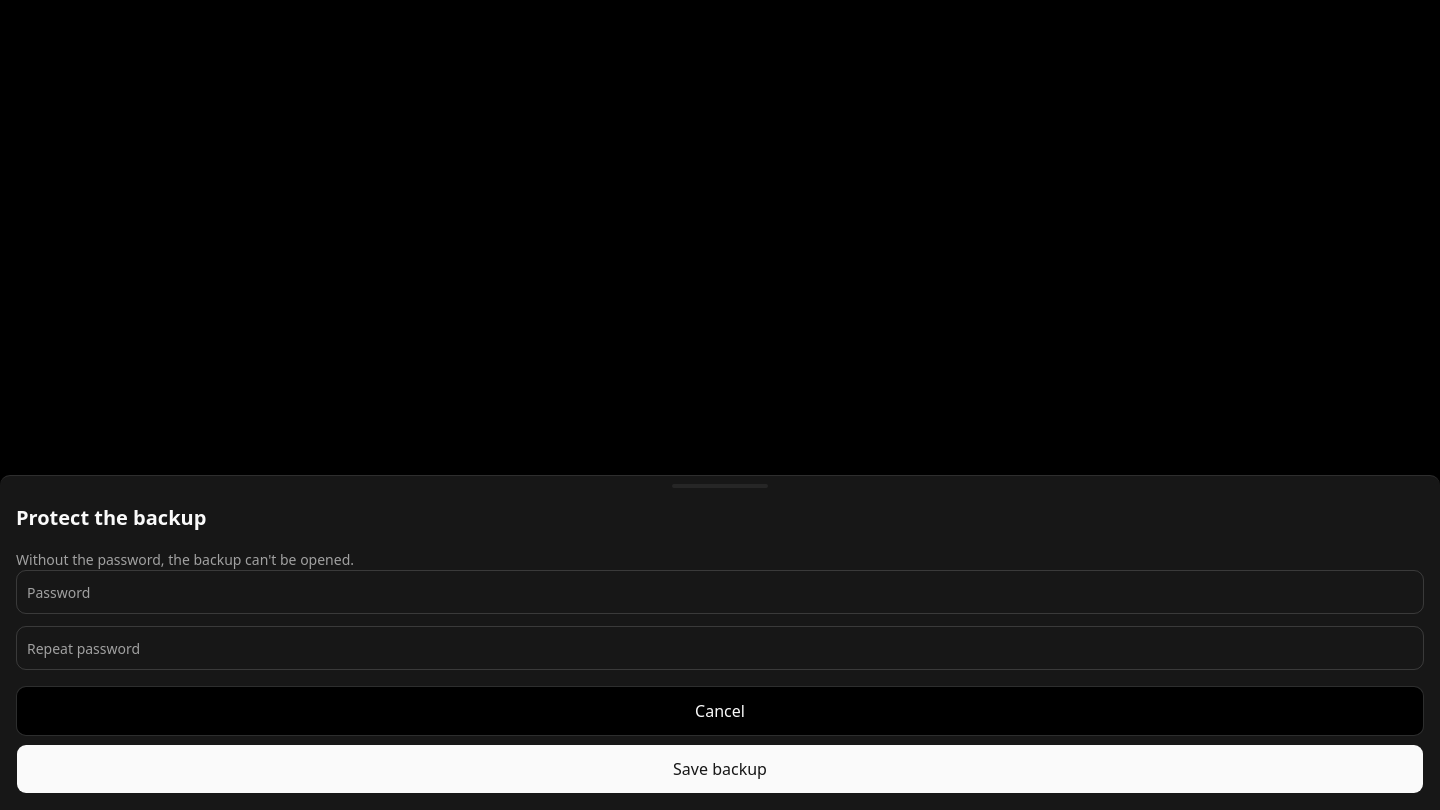
Test: BackupPasswordDrawer choosing a password › refuses one under the minimum length
Type "short" into the password field labelled "Password" at (720, 592), box [16,570,1424,614]
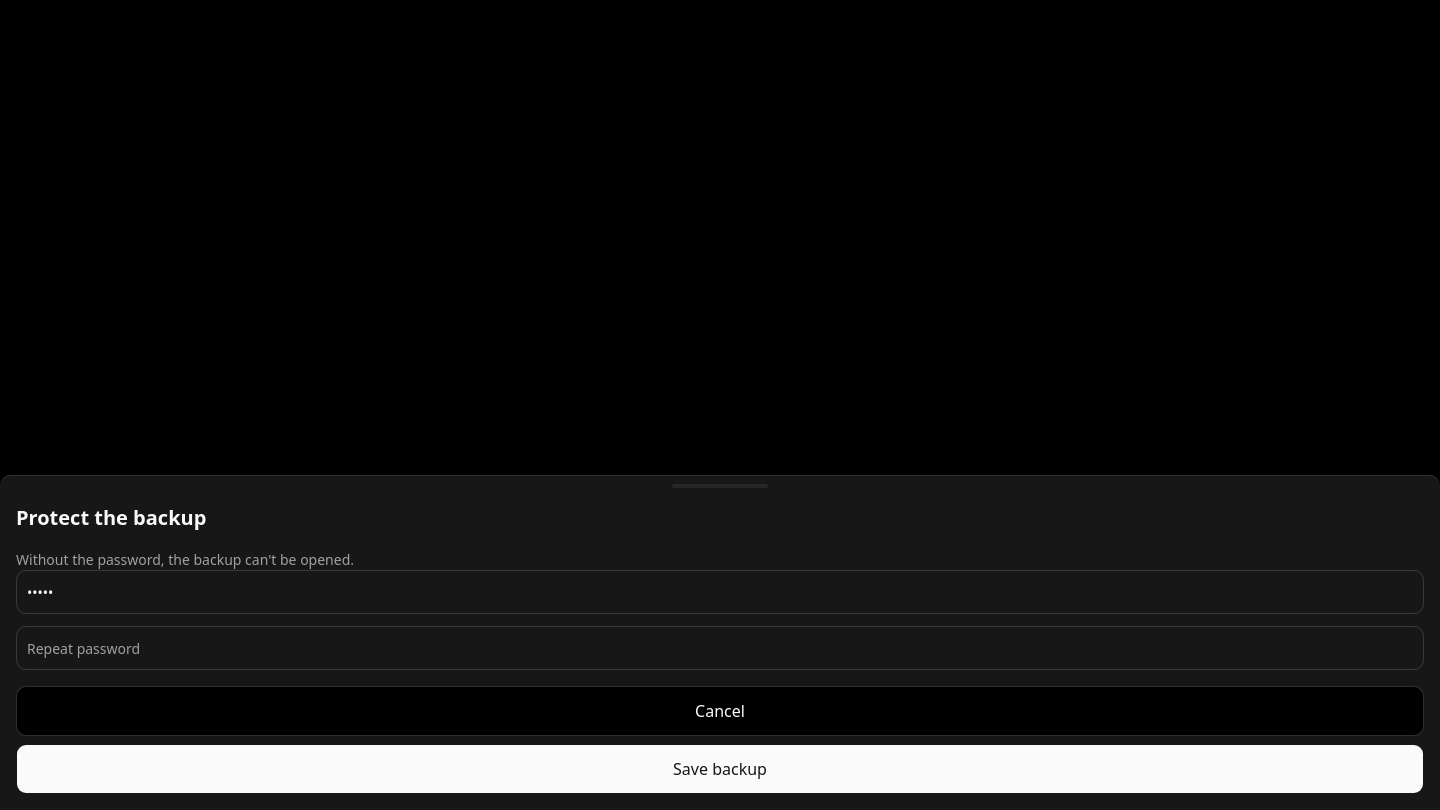
Type "short" into the password field labelled "Repeat password" at (720, 648), box [16,626,1424,670]
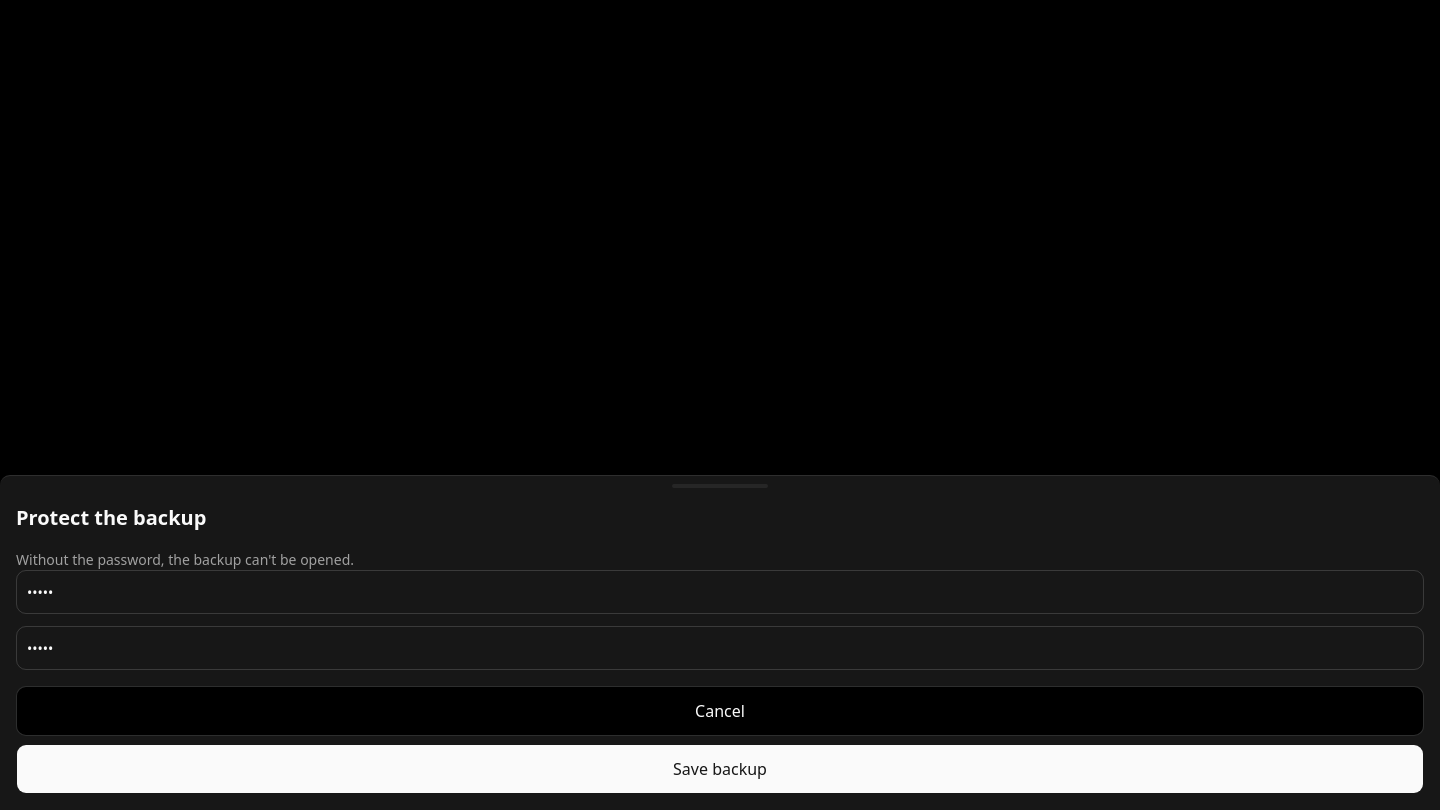
Click the button "Save backup" at (720, 769), box [16,744,1424,794]
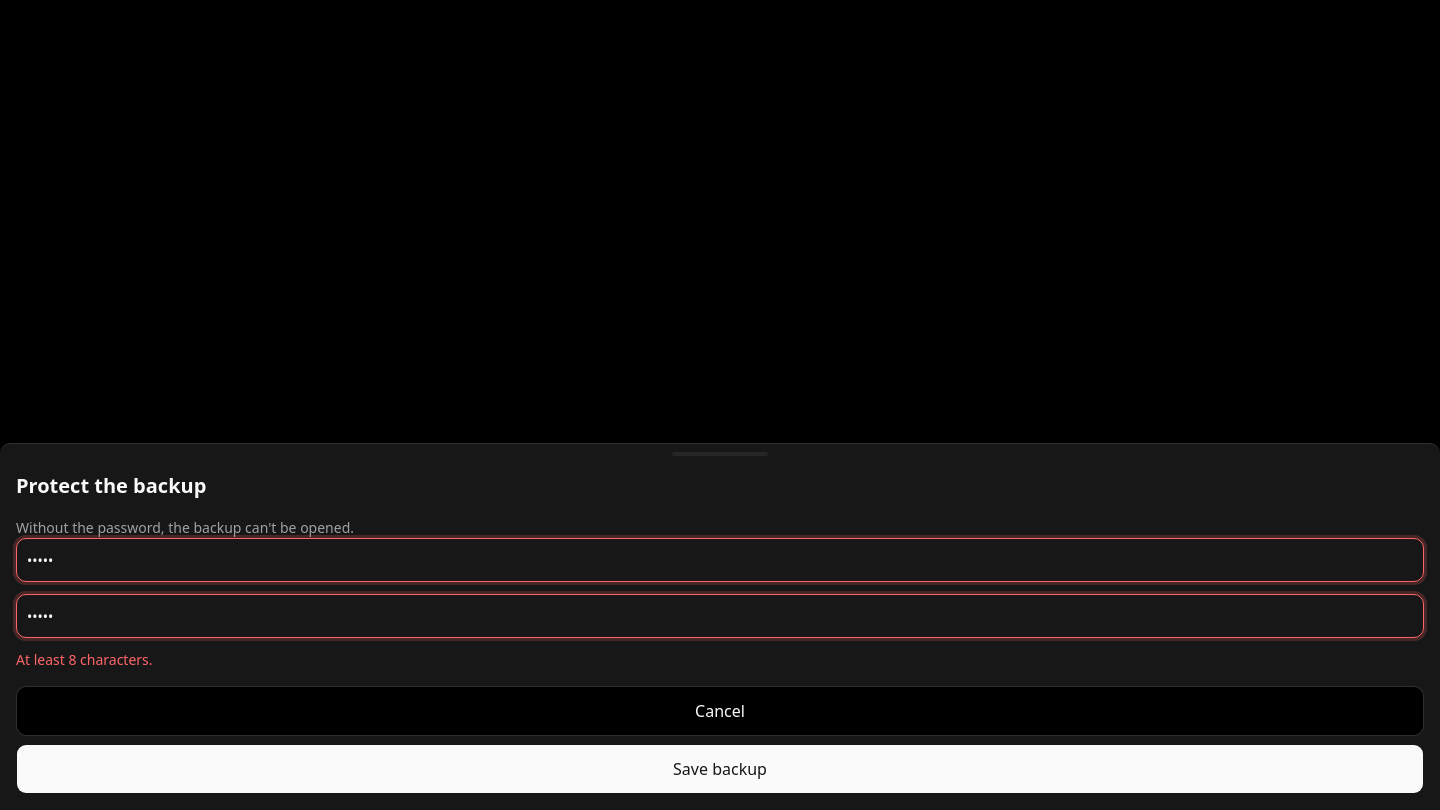
Expected: the message reads "At least 8 characters.", [16,650,152,669]
